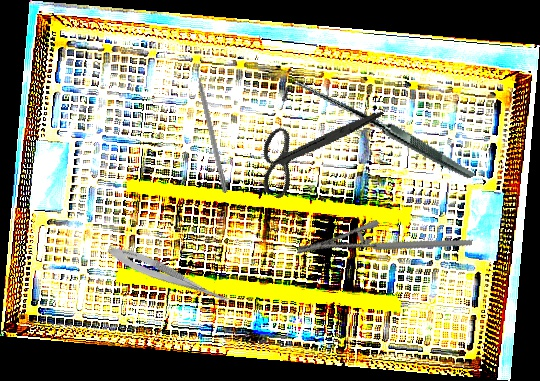Chopper: (192, 58, 235, 194)
Hook Surgical: (278, 33, 475, 233)
Iris Scissors: (243, 68, 386, 225)
Micro Scissor: (104, 241, 238, 310)
Needle Holder: (296, 191, 474, 303)
